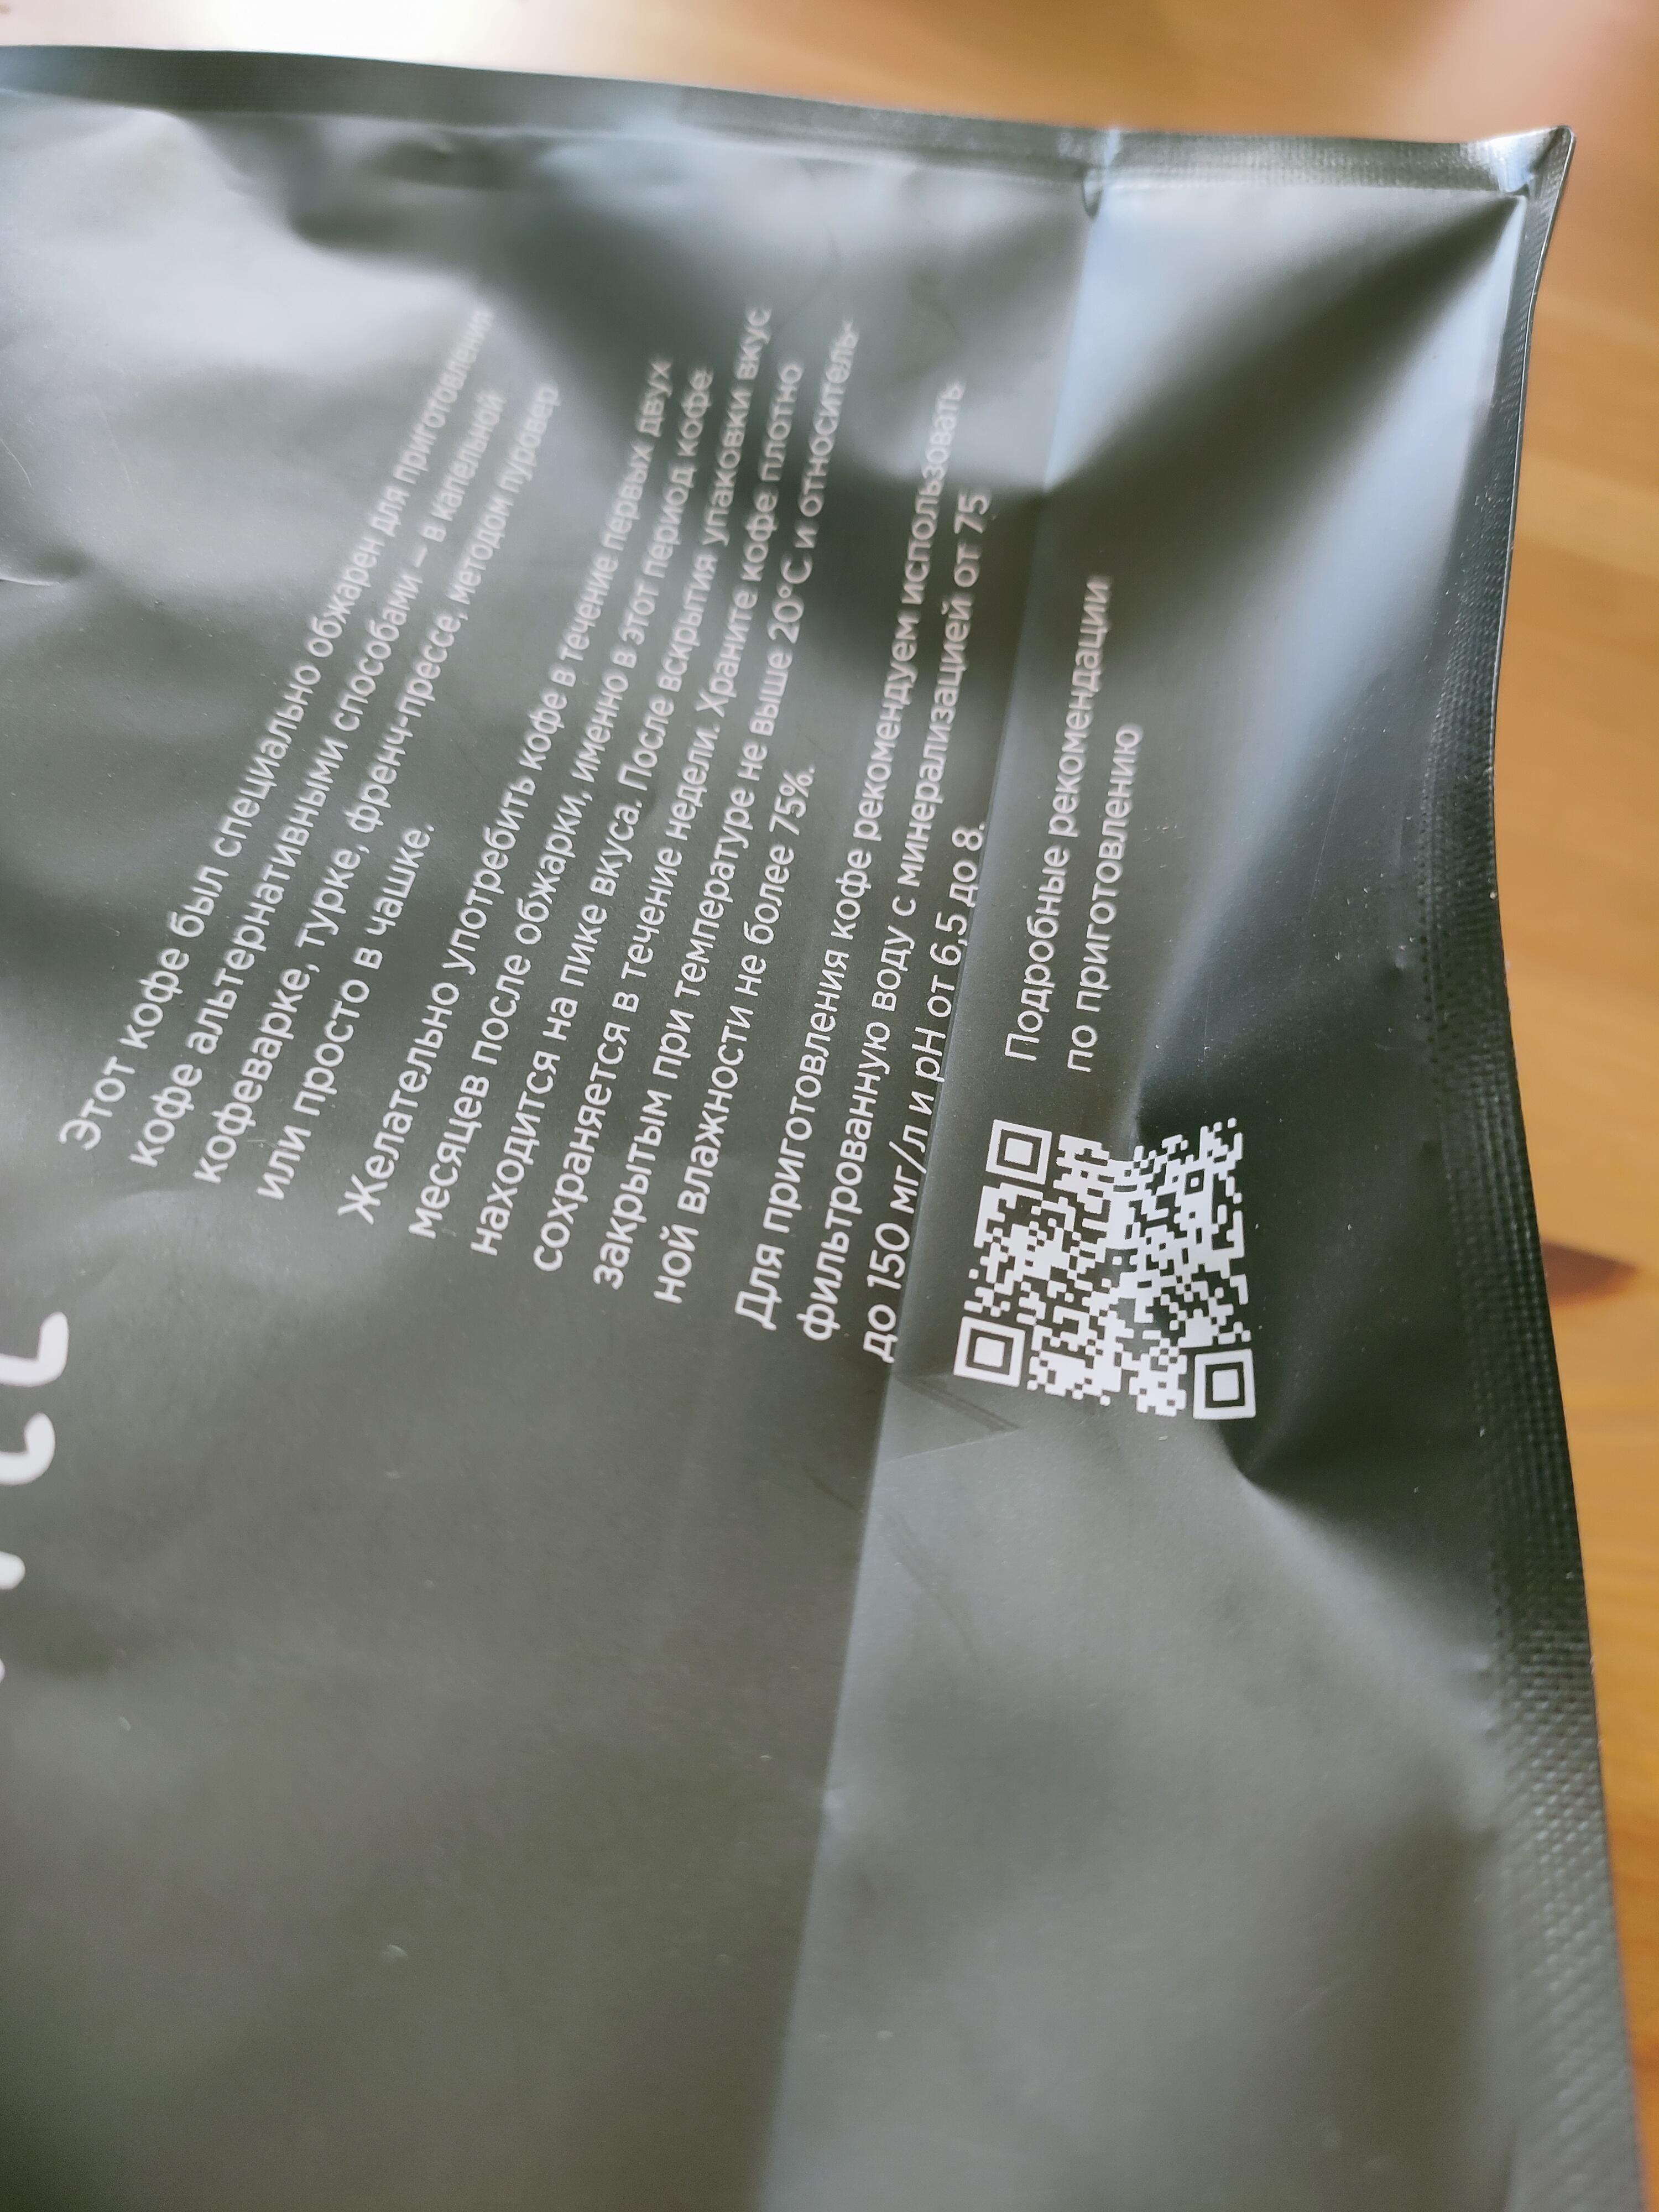qrcode: (950, 1115, 1262, 1425)
